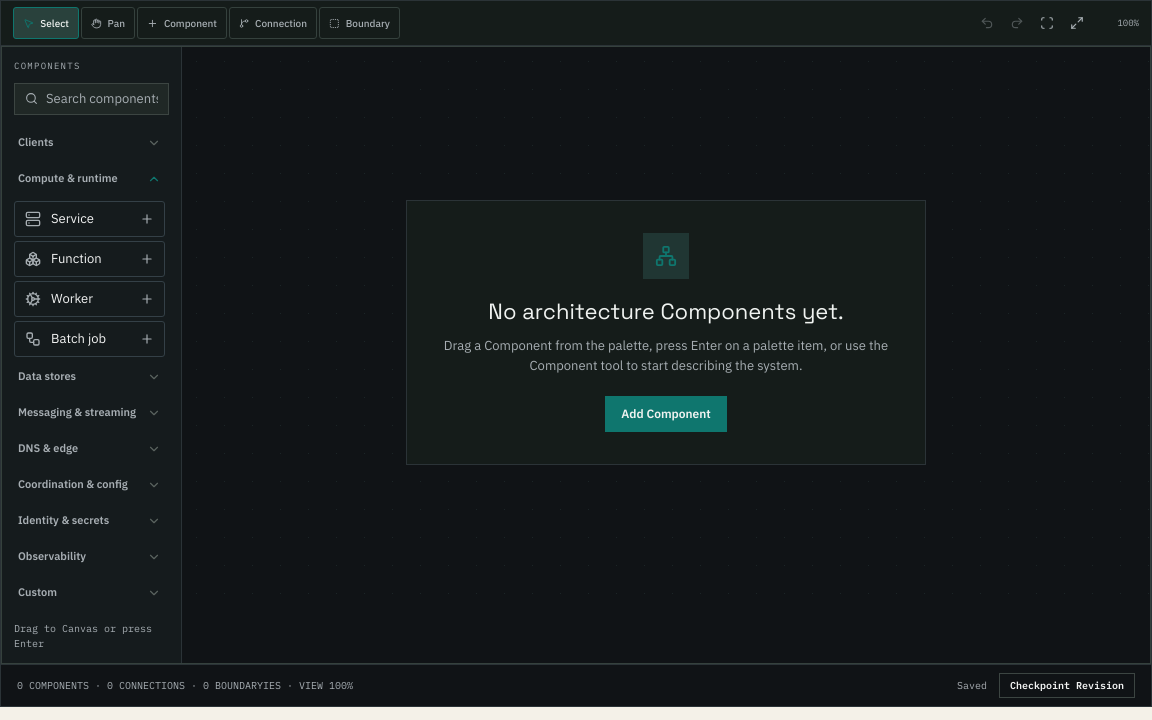
Test case: ArchitectureCanvas › shows the empty canvas onboarding and confirms deletions before removing
Check: the element named "Canvas tools" is shown, box [13,7,400,39]
Check: the text "No architecture Components yet." is shown, box [488,296,844,324]
Click the button "Service" at (90, 218), box [14,200,165,236]
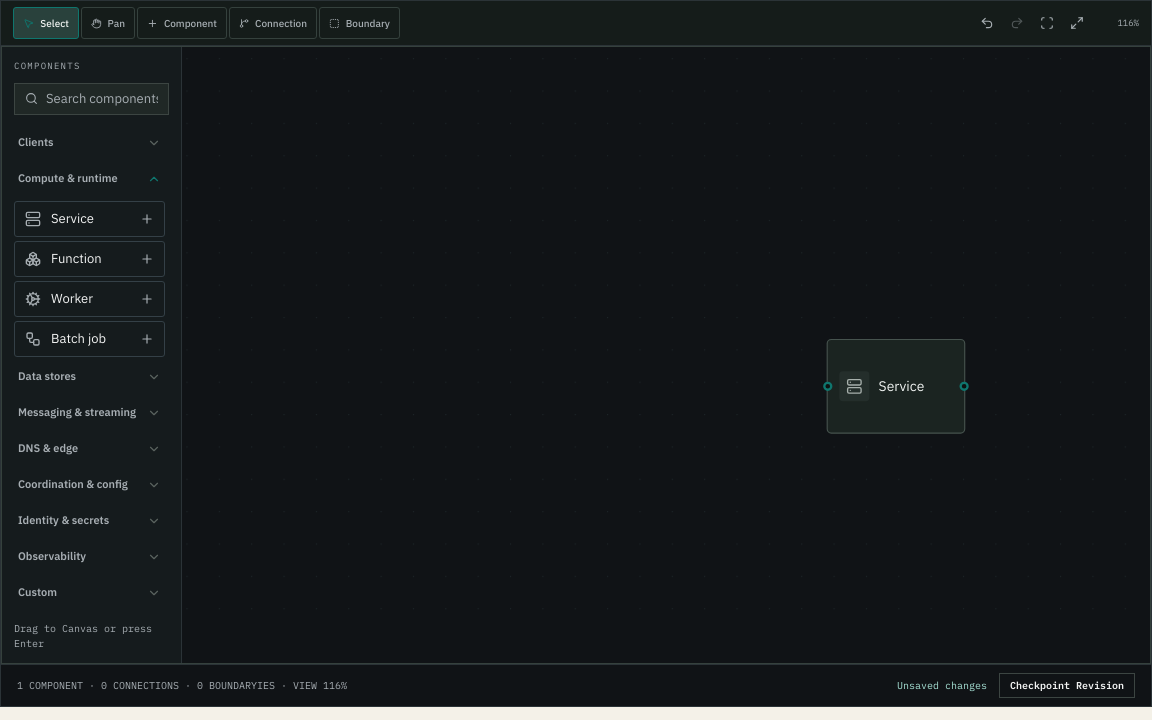
Press Delete in the element named "Architecture canvas"
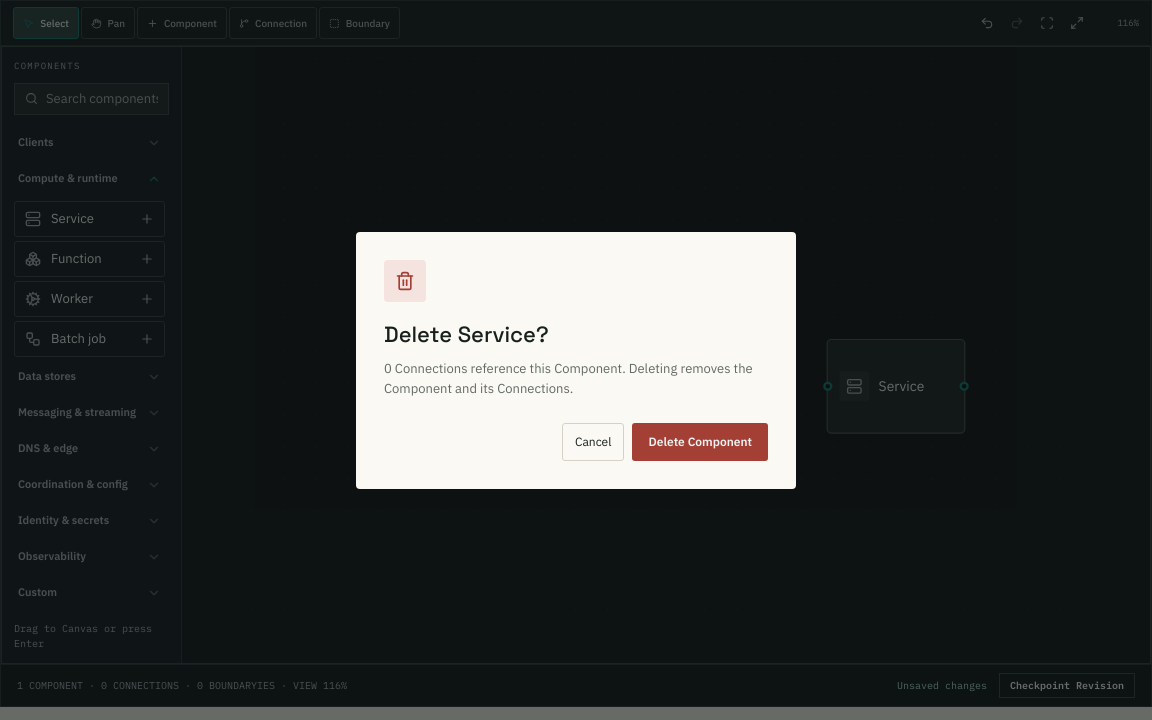
Check: the dialog "Delete Service" is shown
Check: the heading "Delete Service?" is shown, box [384,320,549,348]
Click the button "Delete Component" at (700, 442), box [632,422,768,460]
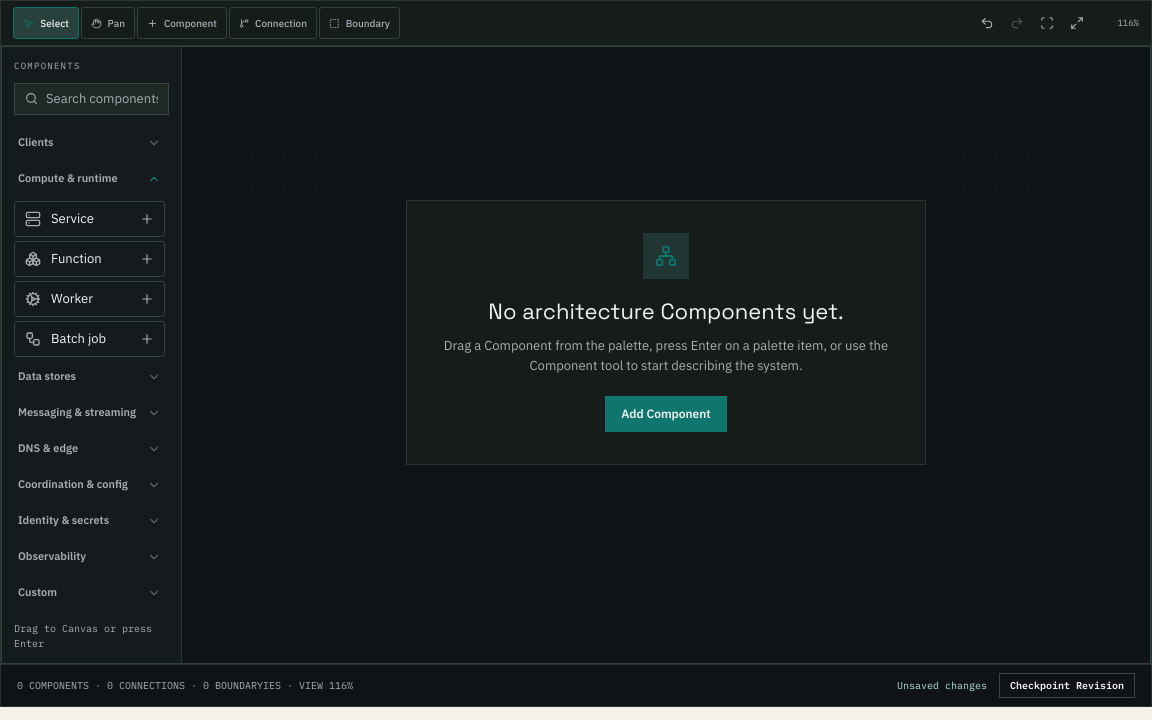
Check: the text "No architecture Components yet." is shown, box [488,296,844,324]
